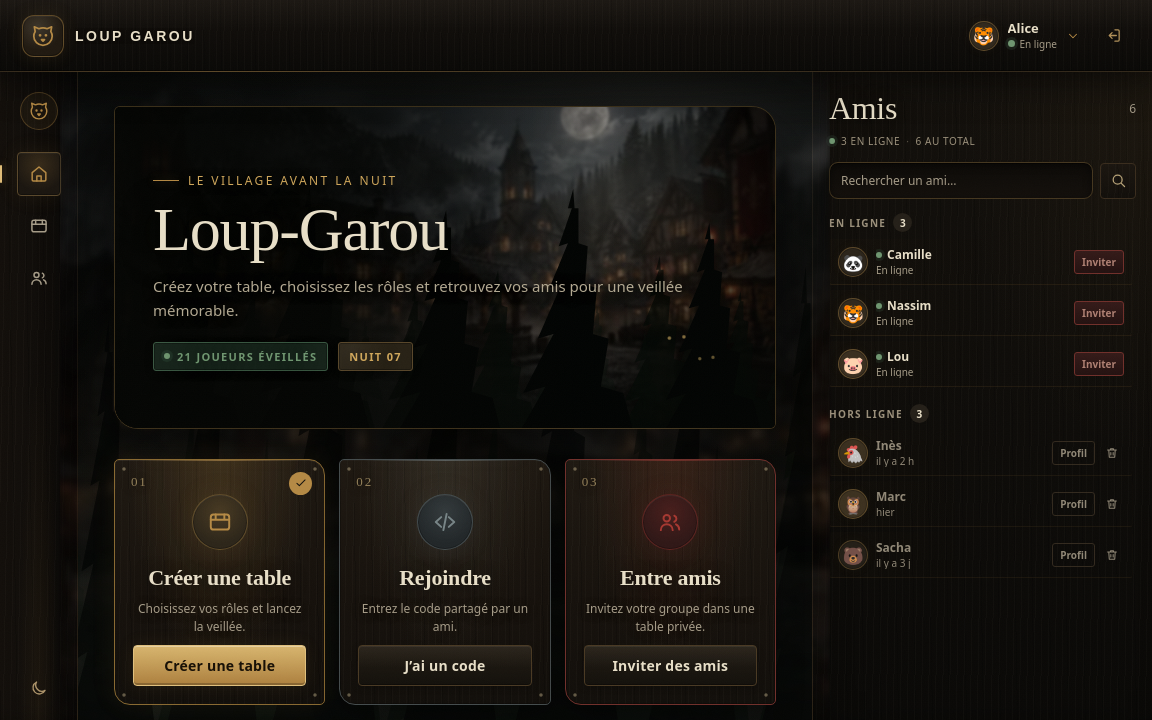
Scenario: Home › rappelle les fournisseurs déjà rattachés et ne les propose plus
Click the heading "🐯 Alice En ligne" at (1024, 36), box [960, 14, 1088, 56]
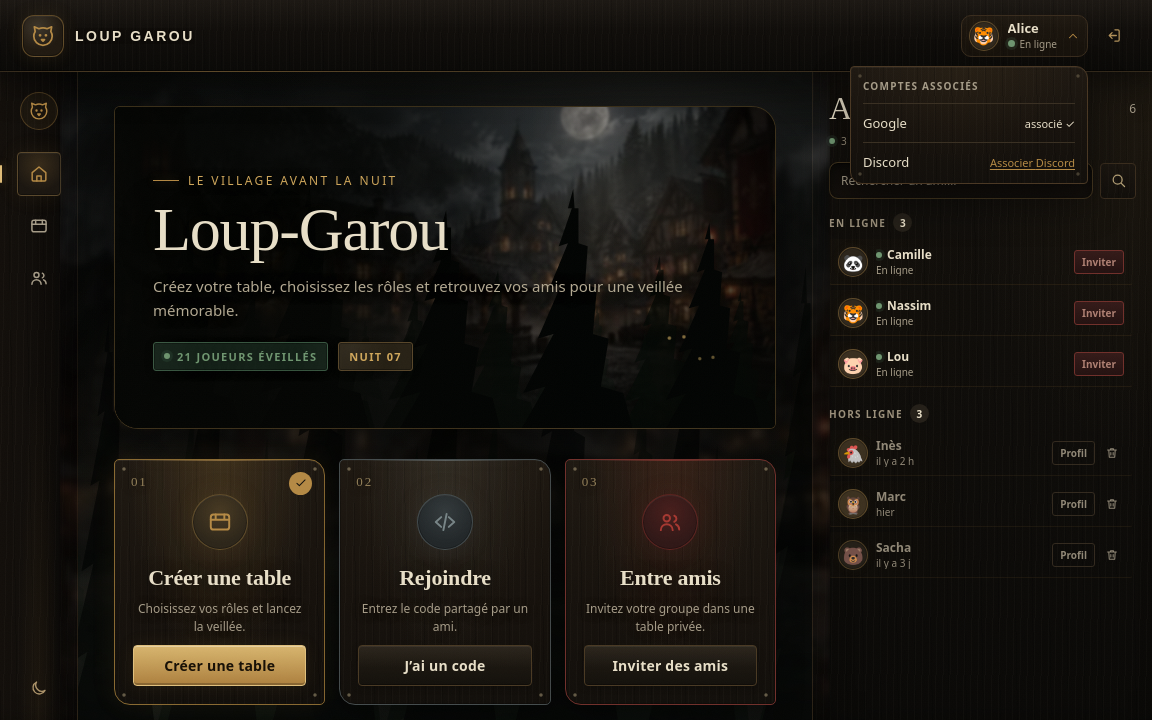
Now the text "associé ✓" is shown, box [1025, 116, 1075, 130]
Now the link "Associer Discord" is shown, box [990, 154, 1075, 170]
